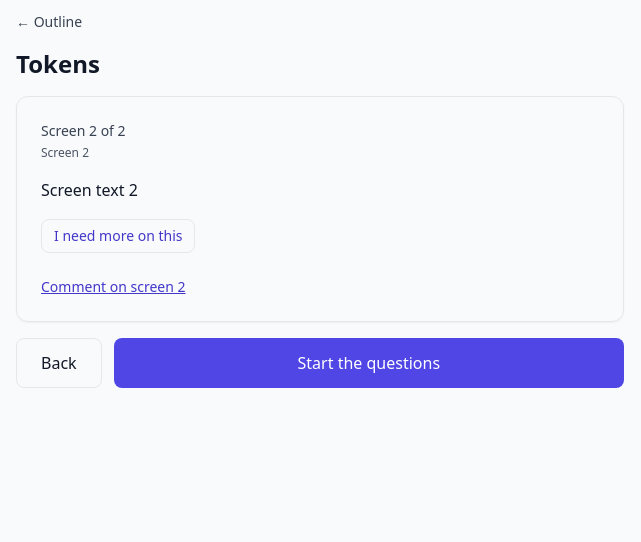
Scenario: LessonPage › comments on a screen against its number
The width and height of the screenshot is (641, 542).
Click the button "Comment on screen 2": (113, 287) top-left (41, 277), bottom-right (186, 297)
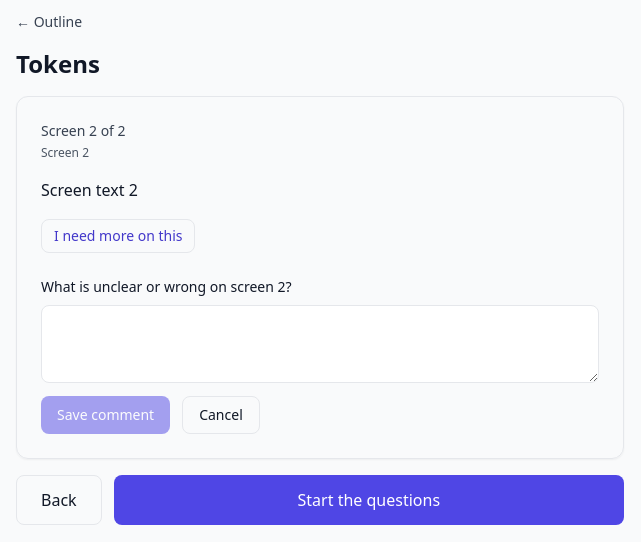
In the text box labelled "What is unclear or wrong on screen 2?": (320, 344) top-left (41, 305), bottom-right (599, 383), type "Why?"
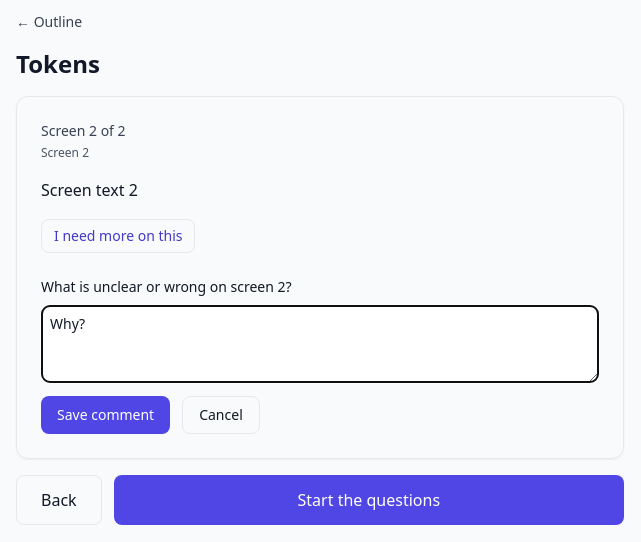
Click the button "Save comment": (106, 415) top-left (41, 396), bottom-right (170, 434)
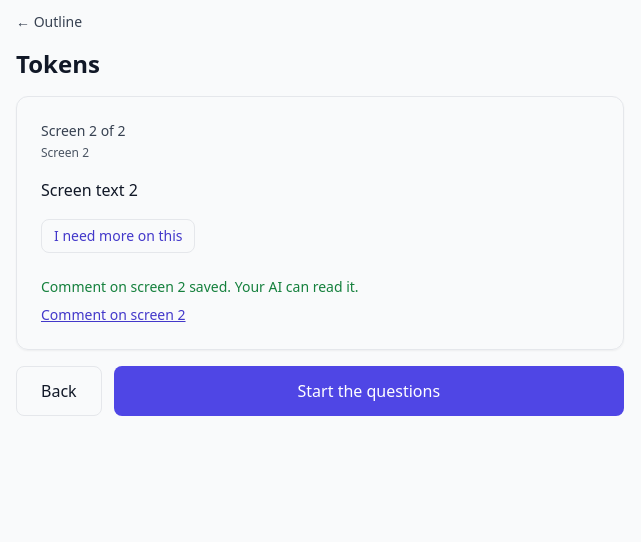
Result: the text "Comment on screen 2 saved. Your AI can read it." is shown at top-left (41, 277), bottom-right (359, 296)
